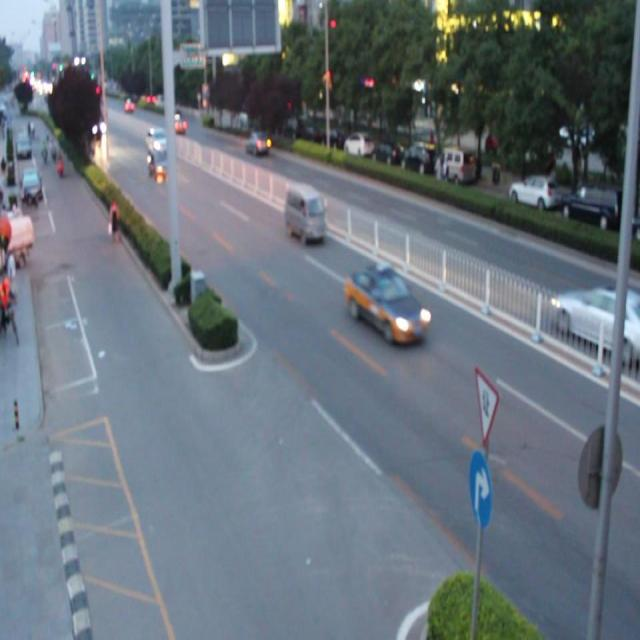car: (548, 282, 640, 365), (345, 262, 425, 345), (148, 146, 170, 178), (146, 126, 168, 153), (247, 132, 269, 155)
truck: (285, 183, 326, 242)
